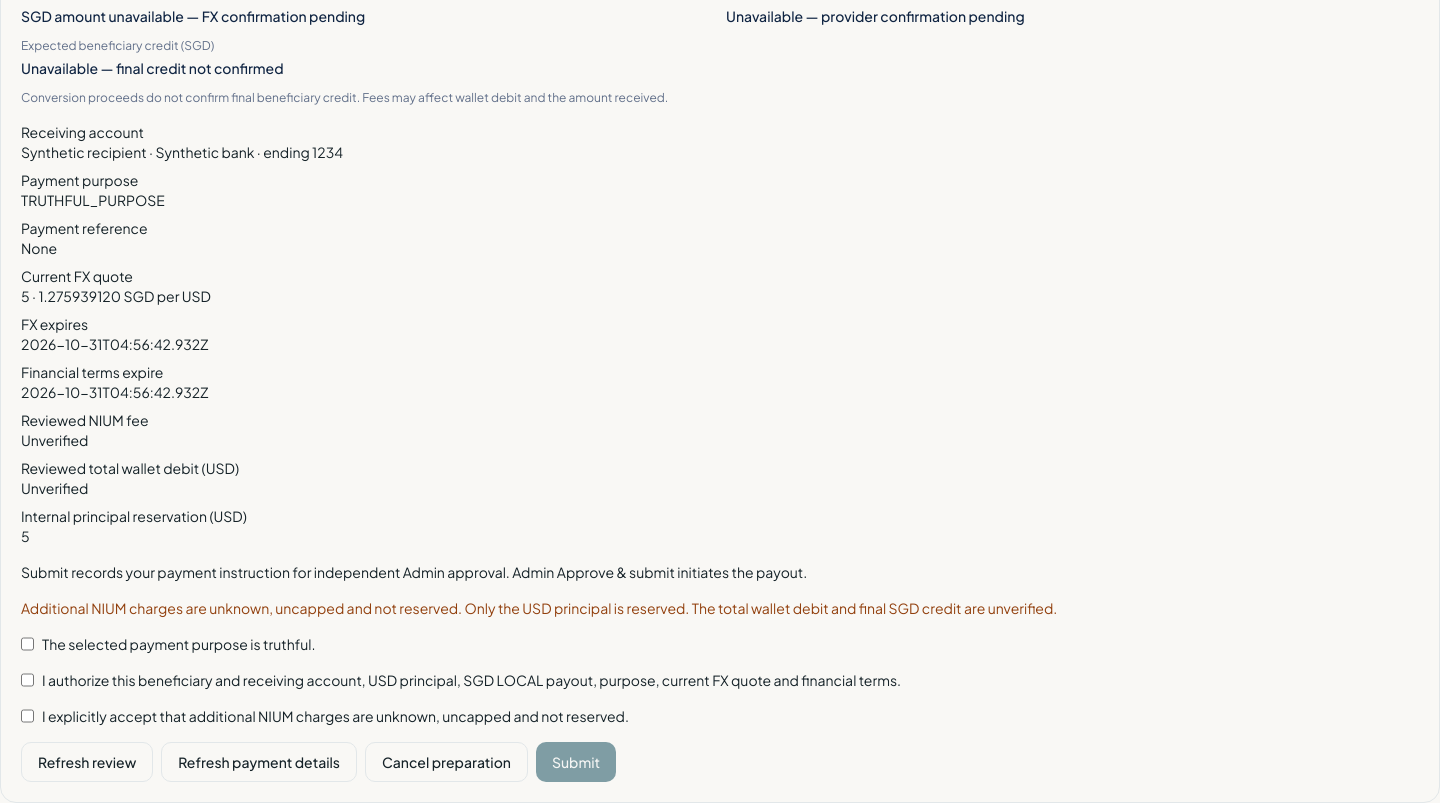
Test: SGD LOCAL Review → Submit › clears acceptance after financial terms change and refreshes without a POST retry
(page scrolled)
Click the checkbox labelled "The selected payment purpose is truthful.": [28, 644] box [21,634,34,654]
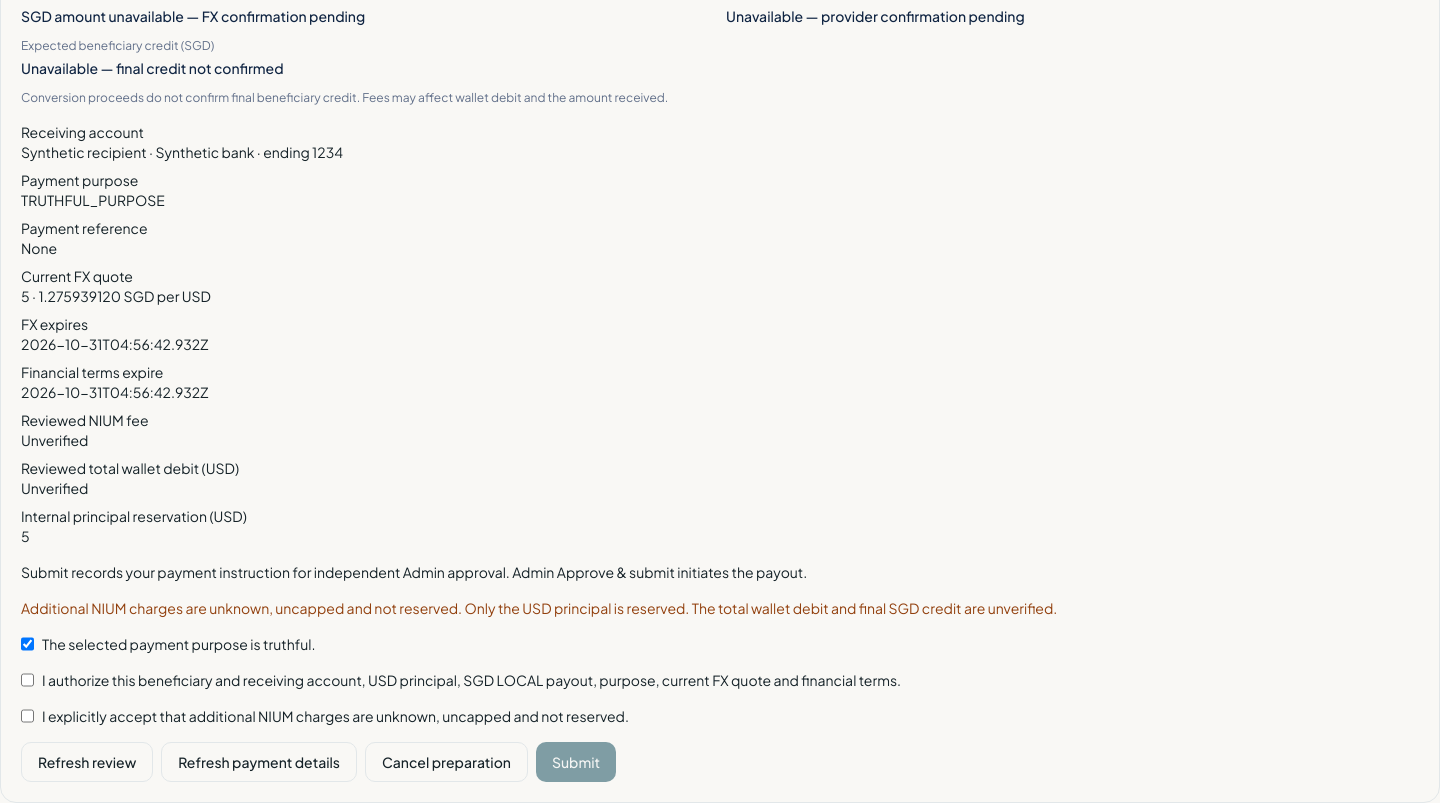
Click the checkbox labelled "I authorize this beneficiary": [28, 680] box [21,670,34,690]
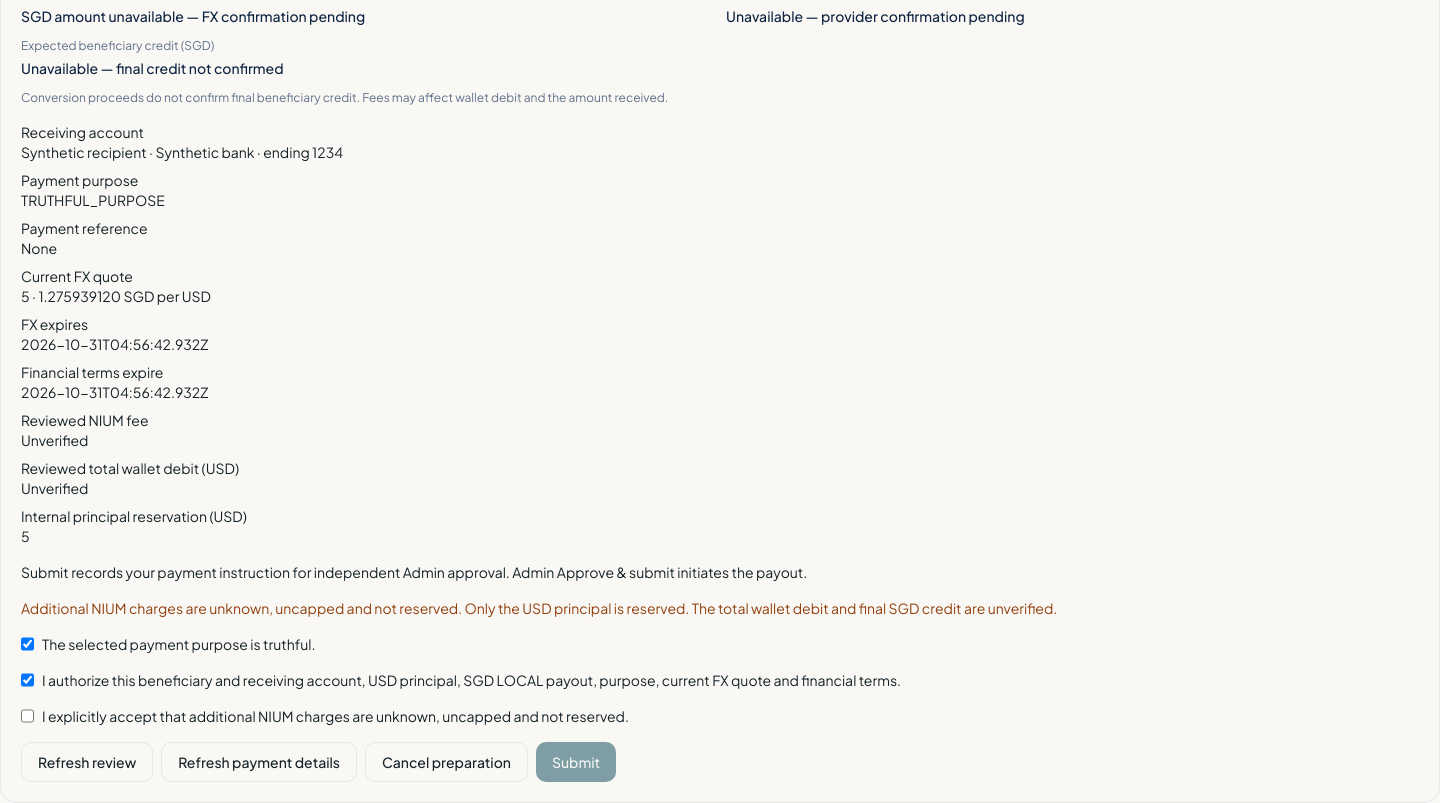
Click the checkbox labelled "I explicitly accept": [28, 716] box [21,706,34,726]
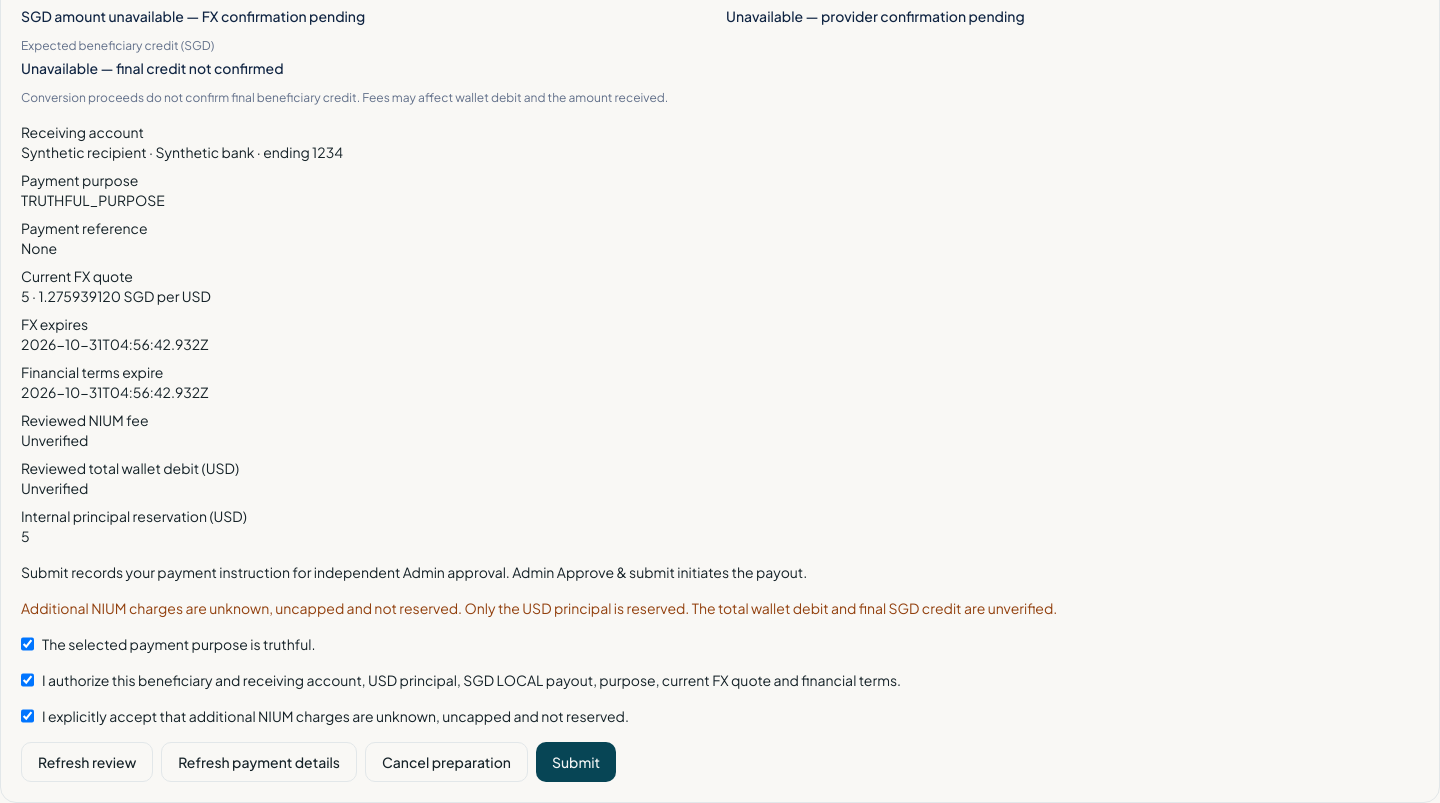
Click the button "Refresh payment details": [259, 762] box [161,742,357,782]
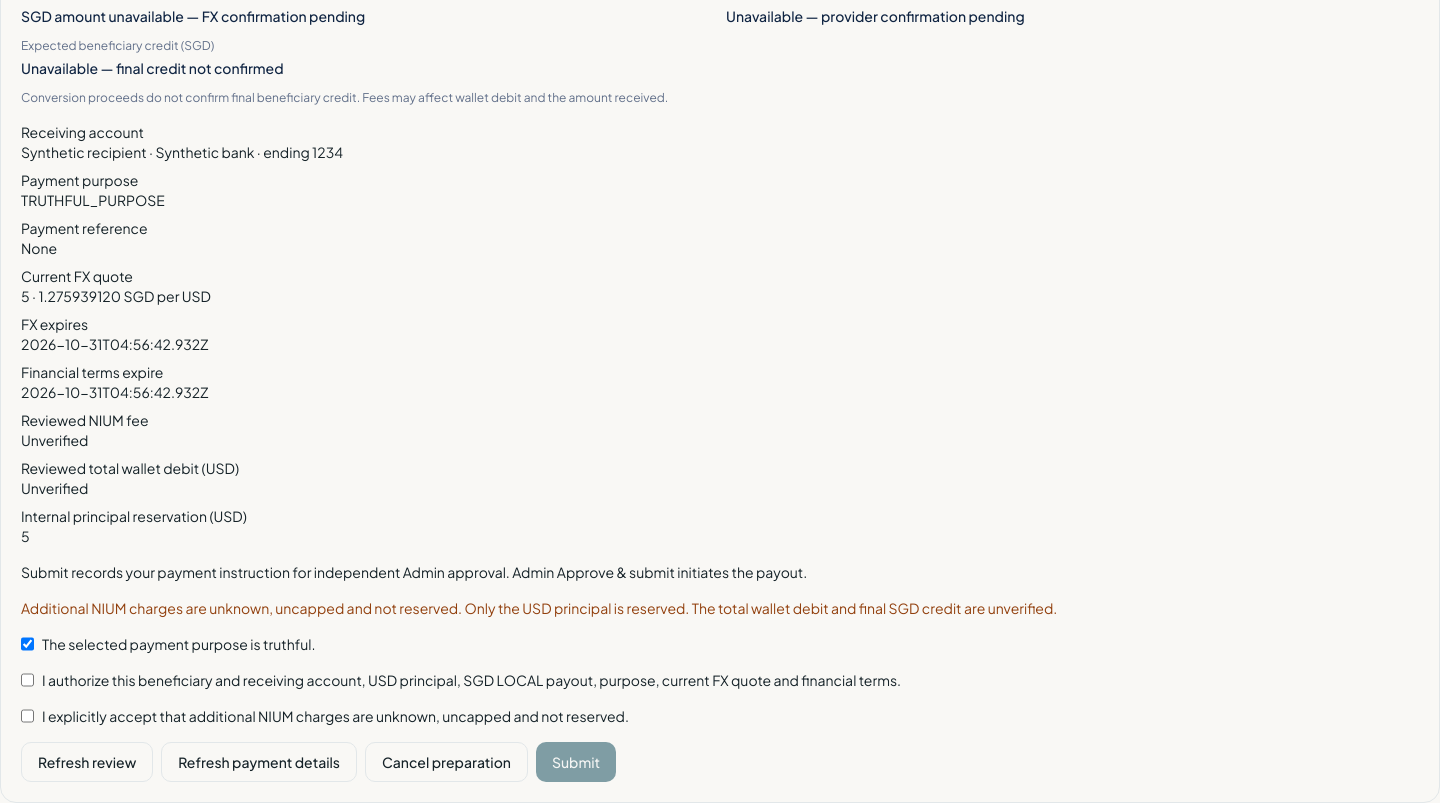
Expected: the checkbox labelled "I authorize this beneficiary" is not checked, [21,670,34,690]
Expected: the button "Submit" is disabled, [536,742,616,782]
